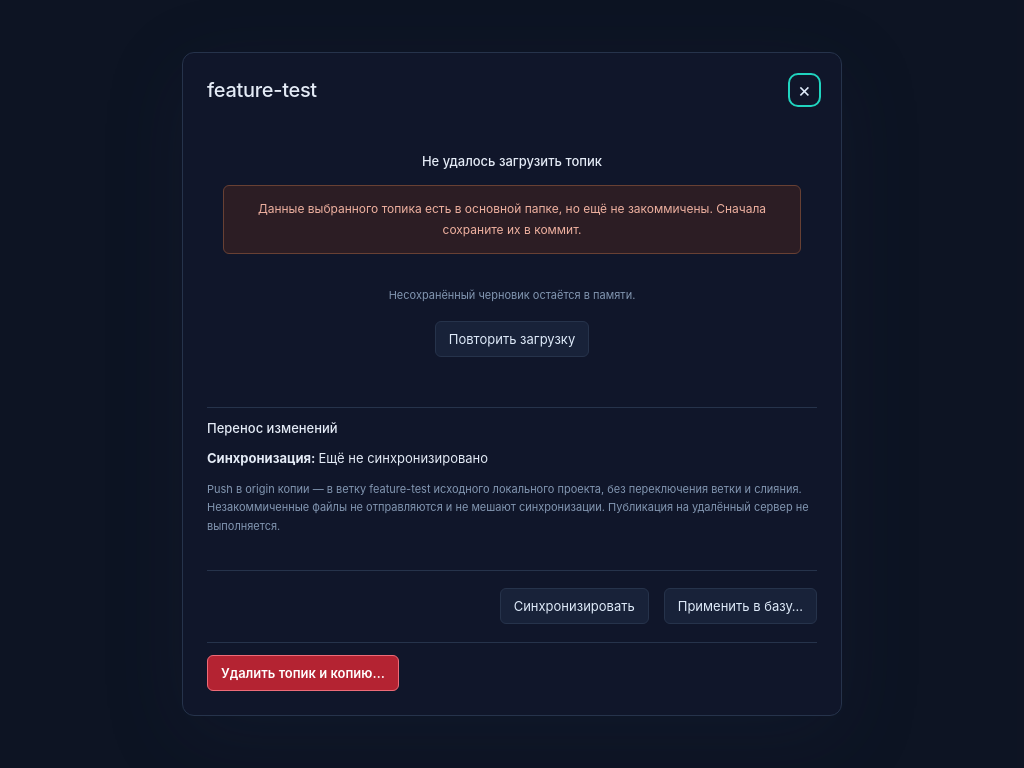
Scenario: retains a dirty owner draft across card failure and successful retry without weakening publication guards
Expected: the message that starts with "Не удалось загрузить топик" is shown, x1=223 y1=153 x2=801 y2=270
Expected: the text "Несохранённый черновик остаётся в памяти." is shown, x1=389 y1=286 x2=635 y2=305
Click the button "Повторить загрузку" at (512, 339), box x1=435 y1=321 x2=589 y2=357
(page scrolled)
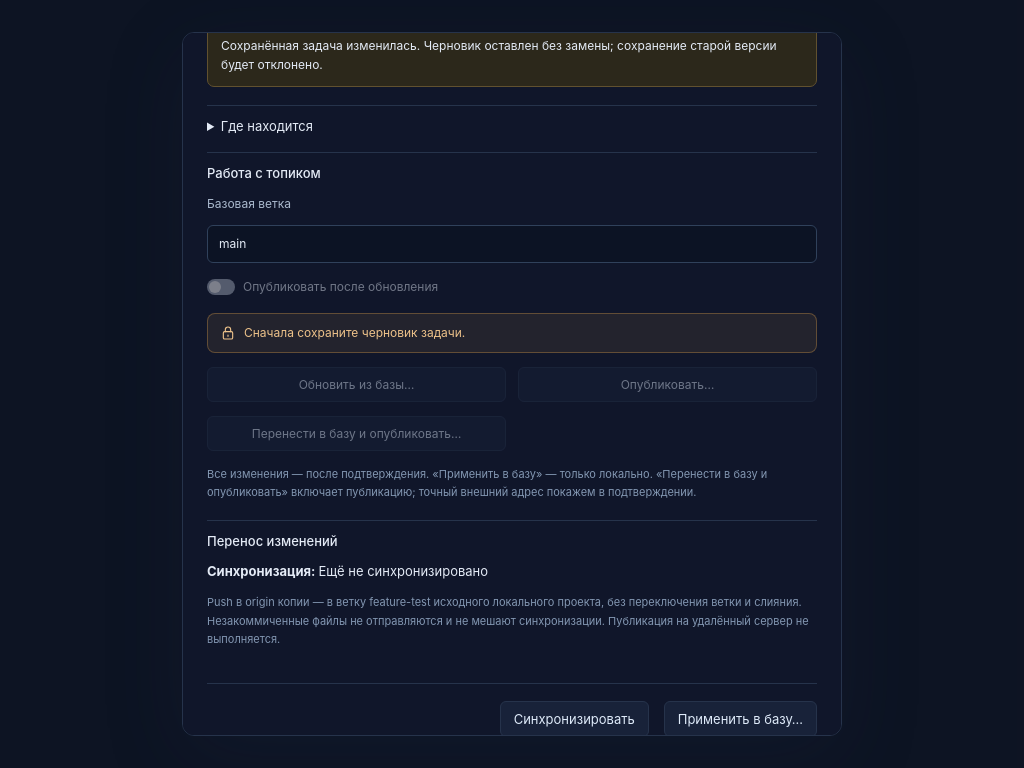
Result: the button "Опубликовать…" is disabled at x1=518 y1=367 x2=817 y2=402
